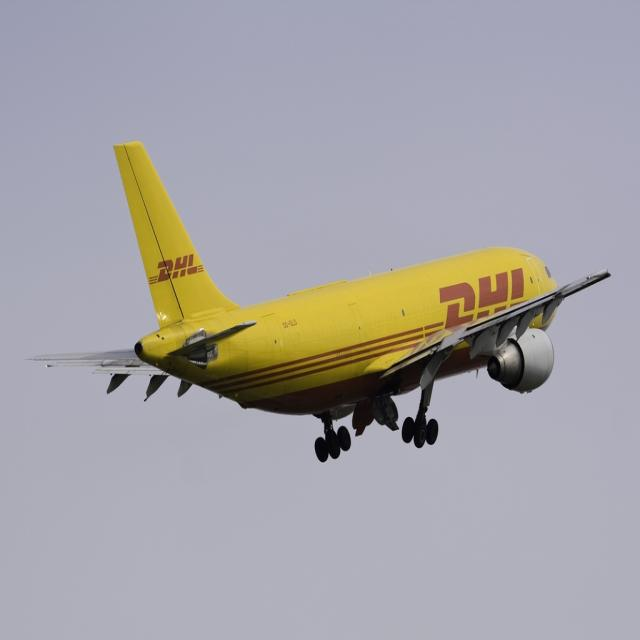dhl: (432, 260, 531, 327), (144, 243, 214, 303)
